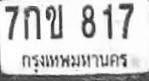1: (102, 3, 112, 39)
7: (118, 2, 133, 38), (4, 5, 18, 39)
8: (80, 3, 95, 37)
A01: (23, 5, 40, 39)
A02: (44, 4, 62, 38)
BKK: (19, 52, 134, 72)
